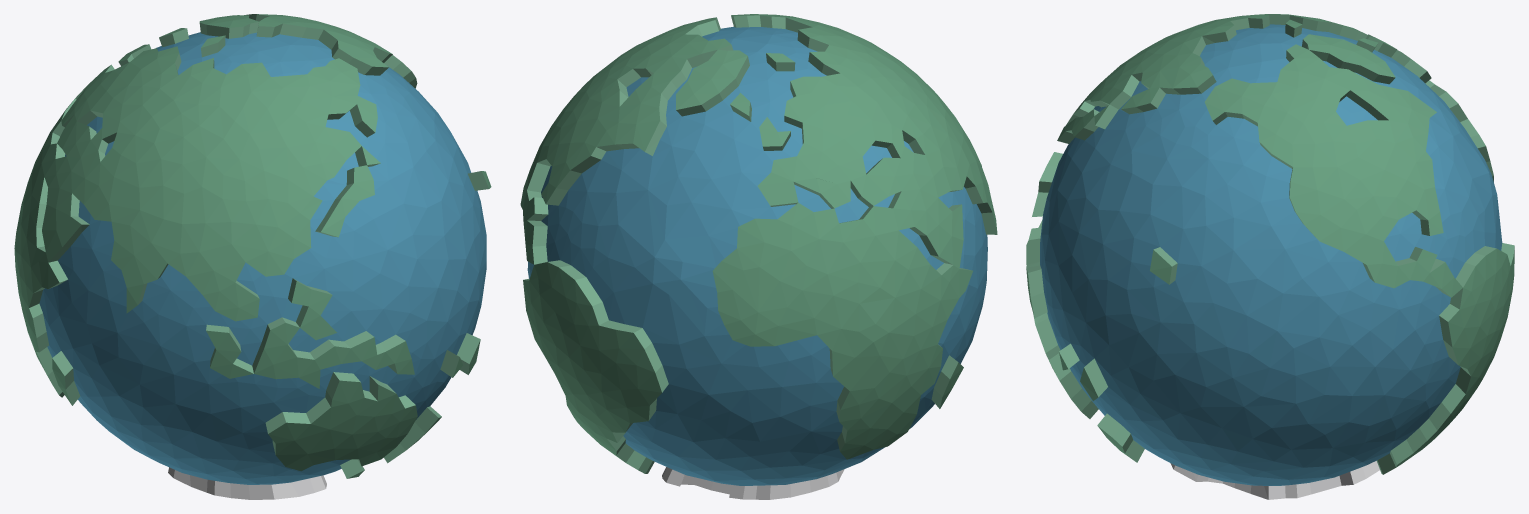
Rendered from low-poly-earth.glb.
3 views of the same model, side by side, from view 1: azimuth 30°, elevation 25°; view 2: azimuth 150°, elevation 25°; view 3: azimuth 270°, elevation 25° (orthographic).
Parts seen in each view (by area): view 1: Sphere_Sphere.002_3, Sphere_Sphere.002_2, Sphere_Sphere.002_1, Sphere_Sphere.002; view 2: Sphere_Sphere.002_2, Sphere_Sphere.002_3, Sphere_Sphere.002_1, Sphere_Sphere.002; view 3: Sphere_Sphere.002_3, Sphere_Sphere.002_2, Sphere_Sphere.002_1, Sphere_Sphere.002.
Boxes of the visible parts, x1=… form: Sphere_Sphere.002_3: x1=39, y1=32, x2=486, y2=484; Sphere_Sphere.002_2: x1=14, y1=14, x2=491, y2=478; Sphere_Sphere.002_1: x1=29, y1=14, x2=488, y2=478; Sphere_Sphere.002: x1=168, y1=467, x2=326, y2=499; Sphere_Sphere.002_2: x1=520, y1=14, x2=997, y2=461; Sphere_Sphere.002_3: x1=527, y1=26, x2=987, y2=485; Sphere_Sphere.002_1: x1=523, y1=15, x2=997, y2=473; Sphere_Sphere.002: x1=662, y1=467, x2=844, y2=499; Sphere_Sphere.002_3: x1=1040, y1=24, x2=1502, y2=485; Sphere_Sphere.002_2: x1=1026, y1=14, x2=1514, y2=467; Sphere_Sphere.002_1: x1=1026, y1=14, x2=1514, y2=474; Sphere_Sphere.002: x1=1170, y1=461, x2=1379, y2=499.
Size of the model in its own units: 2.04 by 2.11 by 2.11.
